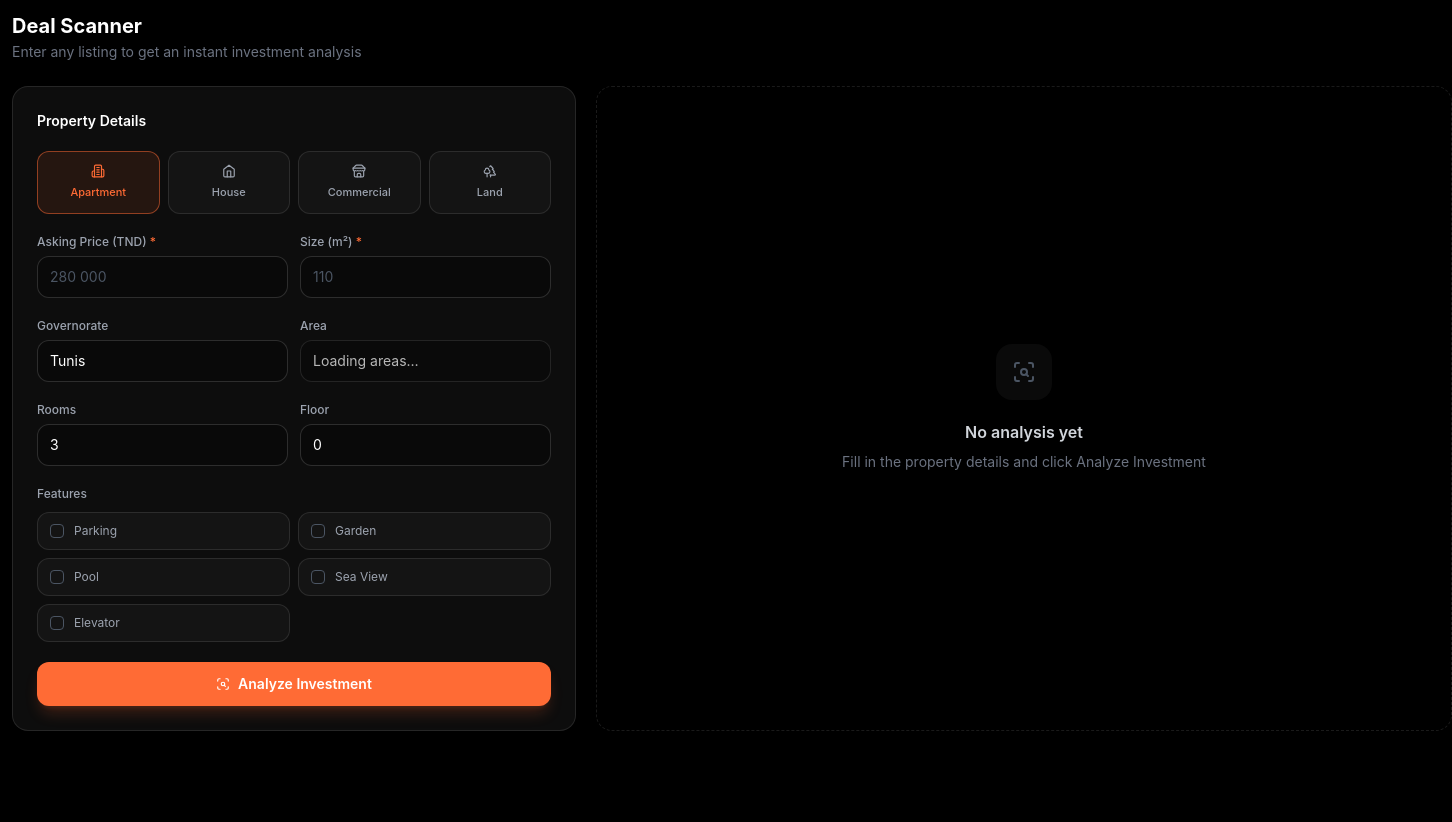
Test: ScannerPage result › says when there is no forecast instead of showing a number
Type "250000" into the number field with placeholder "280 000" at (162, 276), box [37,256,288,298]
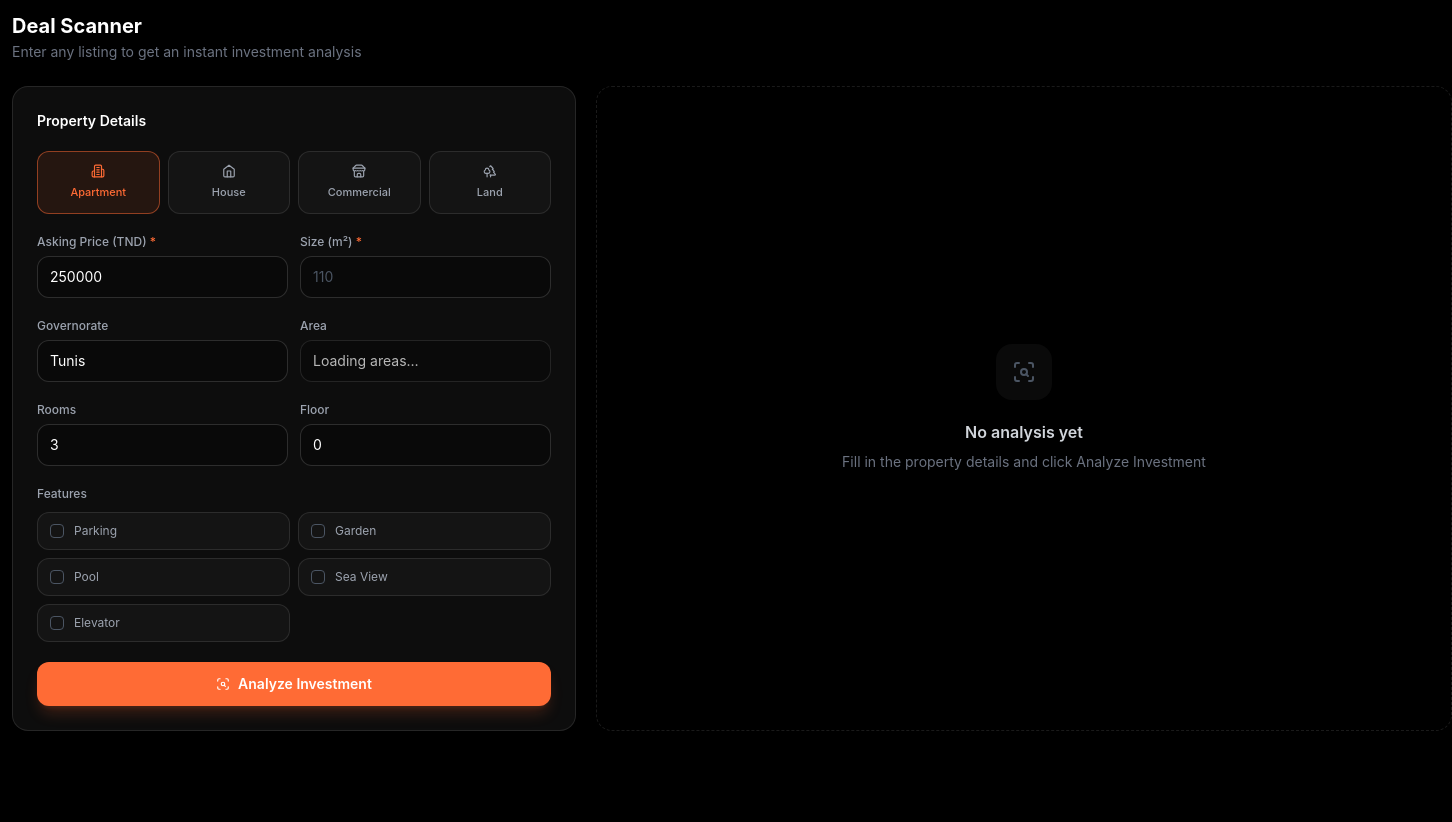
Type "100" into the number field with placeholder "110" at (426, 276), box [300,256,551,298]
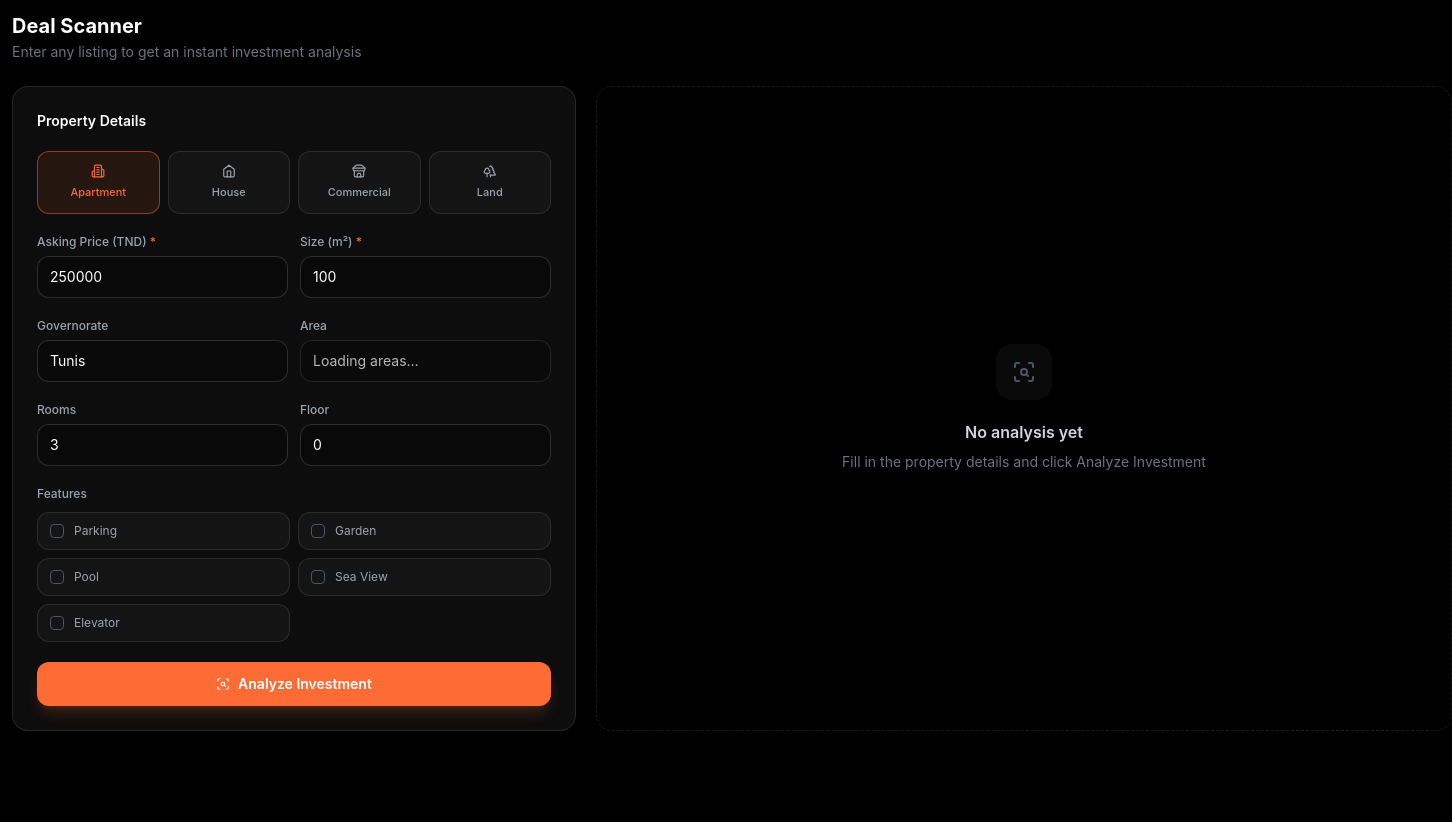
Click the button "Analyze Investment" at (294, 684), box [37,662,551,706]
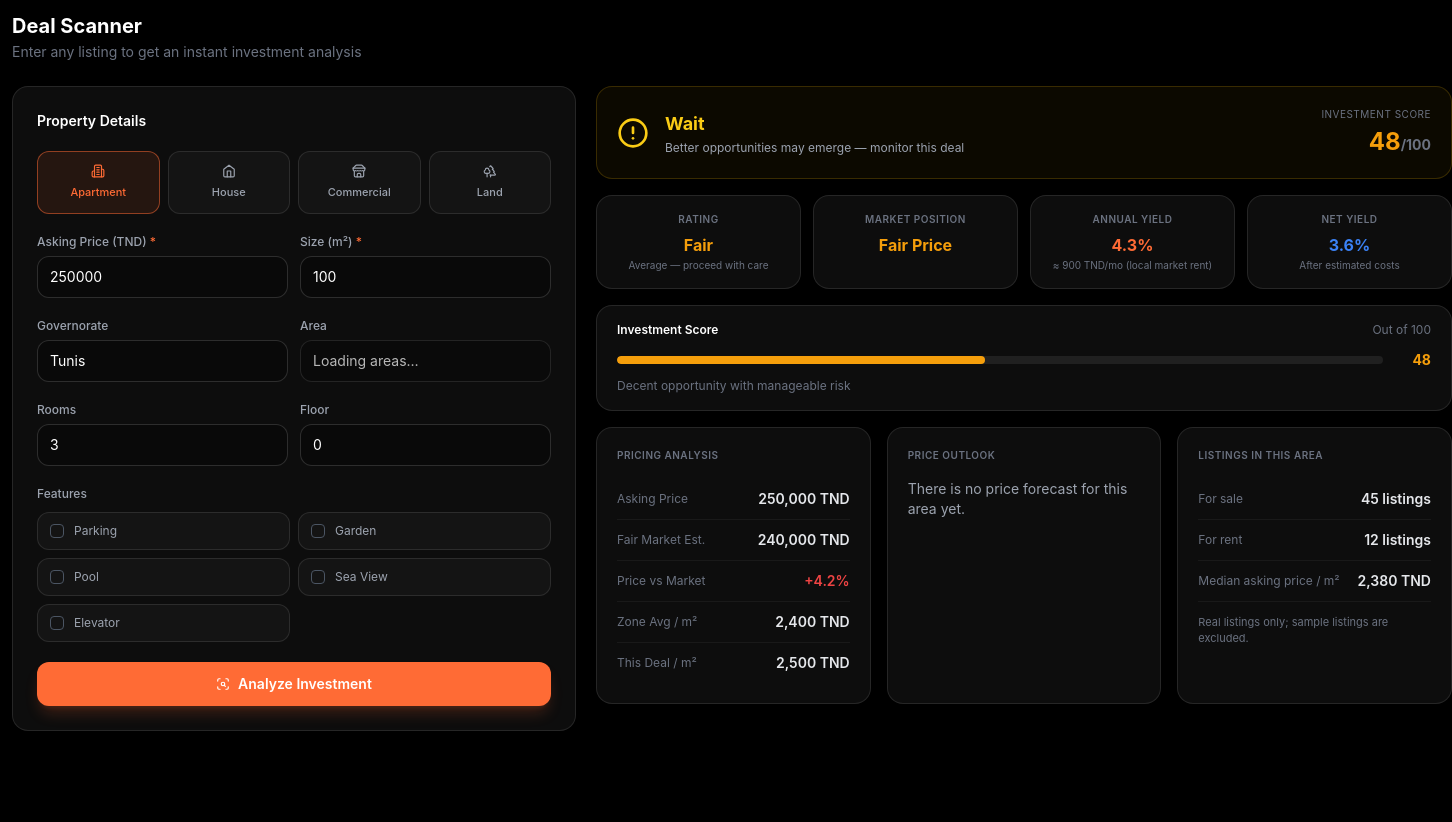
Now the text "There is no price forecast for this area yet." is shown, box [908,478,1140,518]
